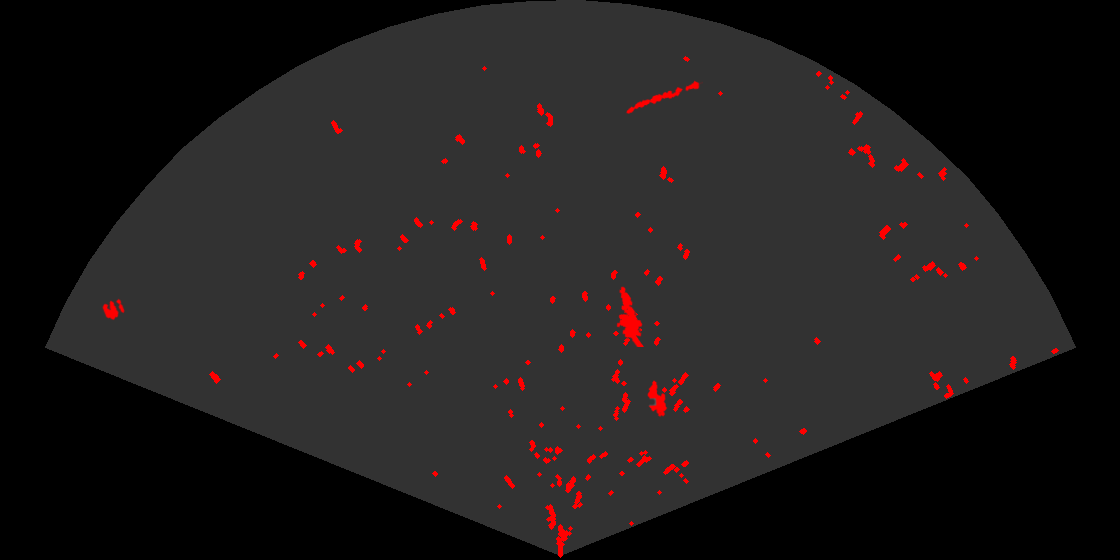AUV: (646, 379, 669, 419)
ball: (101, 297, 126, 322)
chain: (624, 79, 703, 115)
frogman: (615, 285, 645, 347)
